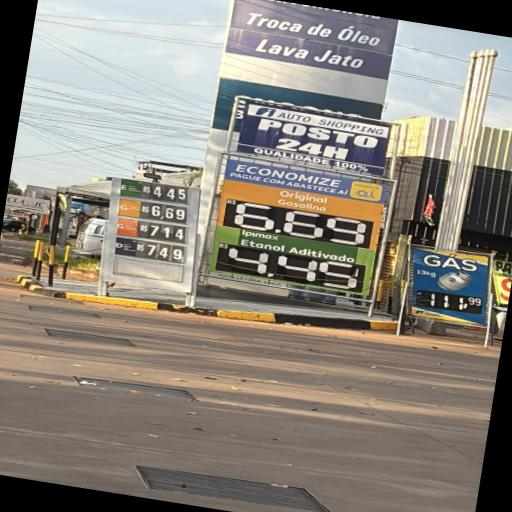ETANOL: (119, 178, 142, 196)
GASOLINA AD: (115, 218, 138, 235)
GASOLINA C: (118, 199, 140, 217)
S10: (113, 236, 136, 257)
placa: (107, 177, 196, 272)
preco: (145, 241, 185, 262), (148, 222, 187, 243), (150, 203, 187, 223), (151, 185, 187, 204)
